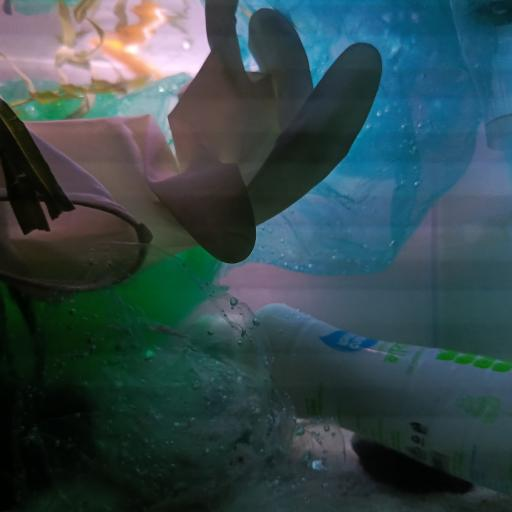bottle_cap: (469, 0, 512, 26)
glove: (0, 0, 382, 290)
plastic_bag: (0, 239, 349, 512), (206, 0, 495, 280), (0, 74, 249, 346)
plastic_bottle: (190, 300, 512, 500)
plastic_cup: (451, 0, 512, 151)
